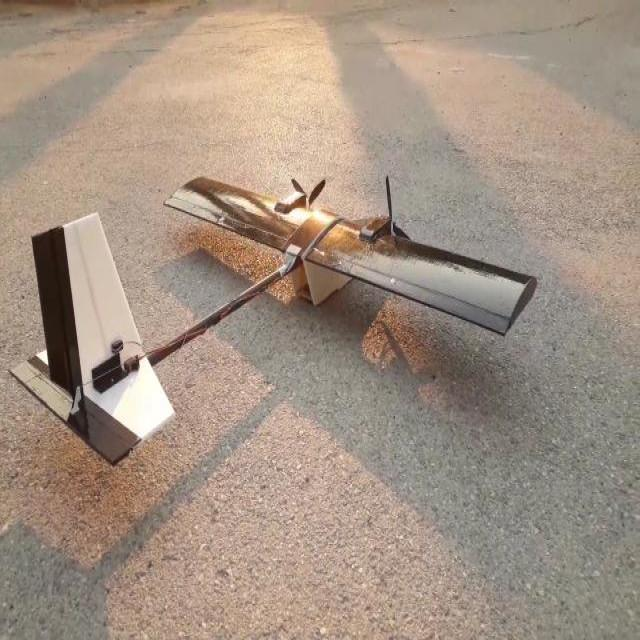UAV: (16, 148, 528, 436)
